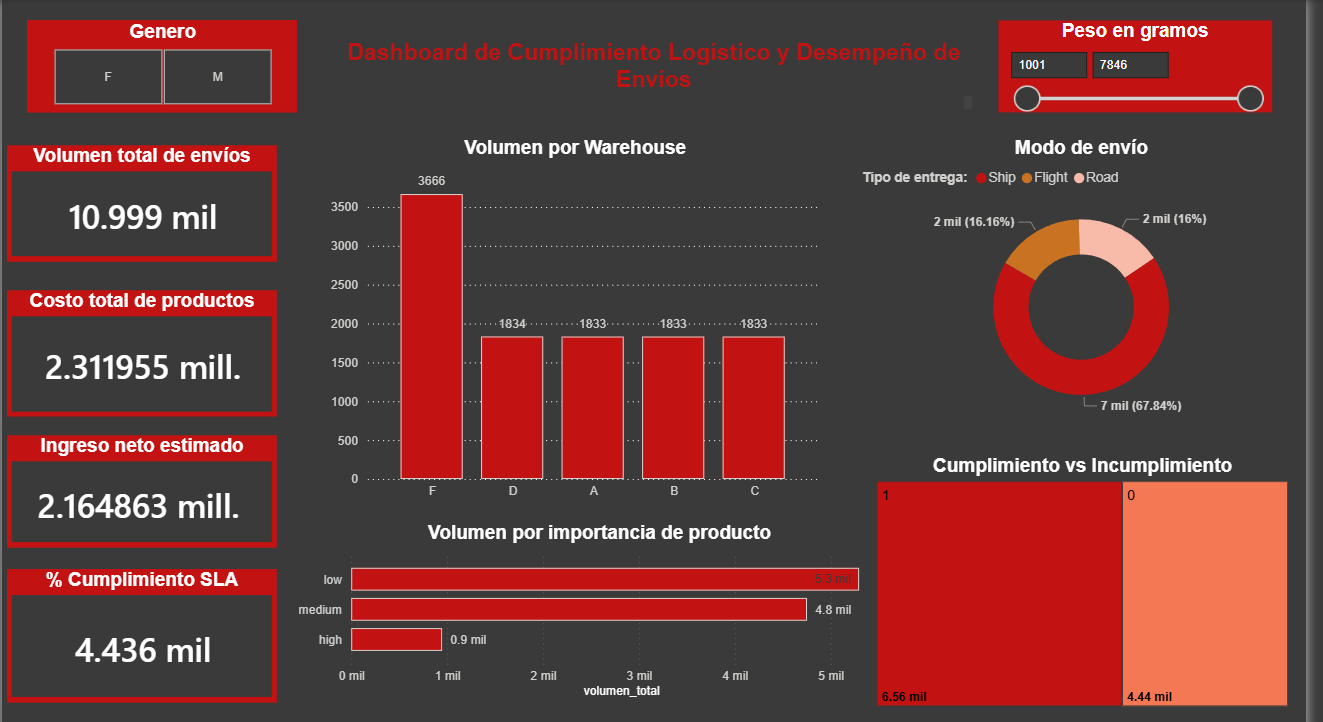

What the dashboard file says about the page in this screenshot:
{"tool":"powerbi","page":{"name":"ANALISIS","canvas":[1280,720],"ordinal":0},"visuals":[{"type":"cardVisual","title":"Volumen total de envíos","fields":{"Data":["Train.volumen_total"]},"box":[4.9,143.6,265,114.1],"z":0},{"type":"cardVisual","title":"Costo total de productos","fields":{"Data":["Train.costo_produccion"]},"box":[4.9,285.9,265,123.9],"z":1000},{"type":"cardVisual","title":"Ingreso neto estimado","fields":{"Data":["Train.ingreso_neto"]},"box":[4.9,428.2,265,110.4],"z":2000},{"type":"cardVisual","title":"% Cumplimiento SLA","fields":{"Data":["Train.entrega_temprana"]},"box":[4.9,559.5,265,131.3],"z":3000},{"type":"clusteredColumnChart","title":"Volumen por Warehouse","fields":{"Category":["Train.Warehouse_block"],"Y":["Train.volumen_total"]},"box":[317.8,135,489.6,364.4],"z":4000},{"type":"slicer","title":"Genero","fields":{"Values":["Train.Gender"]},"box":[24.5,20.9,265,90.8],"z":5000},{"type":"clusteredBarChart","title":"Volumen por importancia de producto","fields":{"Category":["Train.Product_importance"],"Y":["Train.volumen_total"]},"box":[281,512.9,611,177.9],"z":6000},{"type":"donutChart","title":"Modo de envío","fields":{"Category":["Train.Mode_of_Shipment"],"Y":["Train.volumen_total"]},"box":[839.3,135,440.5,284.7],"z":7000},{"type":"treemap","title":"Cumplimiento vs Incumplimiento","fields":{"Values":["Train.volumen_total"],"Group":["Train.Reached.on.Time_Y.N"]},"box":[854,447.9,413.5,251.5],"z":8000},{"type":"textbox","title":"Dashboard de Cumplimiento Logístico y Desempeño de Envíos","box":[322.7,39.3,634.4,73.6],"z":8001},{"type":"slicer","title":"Peso en gramos","fields":{"Values":["Train.Weight_in_gms"]},"box":[977.9,20.9,268.7,90.8],"z":8002}]}

Visuals, with their boxes on the page's 1280x720 design canvas (x1, y1, x2, y2). These are canvas units, not pixel positions in the 1323x722 screenshot, which may show the page scaled, cropped or inside an application window:
"Volumen total de envíos" cardVisual: [x1=5, y1=144, x2=270, y2=258]
"Costo total de productos" cardVisual: [x1=5, y1=286, x2=270, y2=410]
"Ingreso neto estimado" cardVisual: [x1=5, y1=428, x2=270, y2=539]
"% Cumplimiento SLA" cardVisual: [x1=5, y1=560, x2=270, y2=691]
"Volumen por Warehouse" clusteredColumnChart: [x1=318, y1=135, x2=807, y2=499]
"Genero" slicer: [x1=24, y1=21, x2=290, y2=112]
"Volumen por importancia de producto" clusteredBarChart: [x1=281, y1=513, x2=892, y2=691]
"Modo de envío" donutChart: [x1=839, y1=135, x2=1280, y2=420]
"Cumplimiento vs Incumplimiento" treemap: [x1=854, y1=448, x2=1268, y2=699]
"Dashboard de Cumplimiento Logístico y Desempeño de Envíos" textbox: [x1=323, y1=39, x2=957, y2=113]
"Peso en gramos" slicer: [x1=978, y1=21, x2=1247, y2=112]
